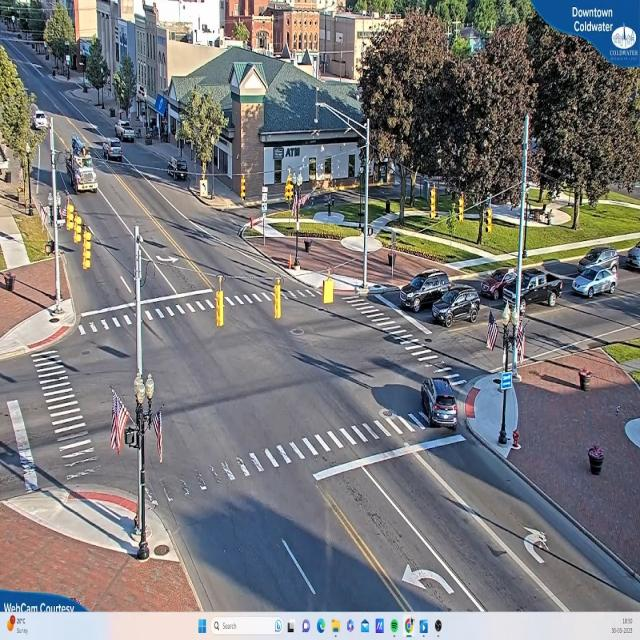car: (495, 270, 562, 308), (401, 272, 455, 314), (422, 376, 460, 428), (432, 290, 479, 328), (572, 268, 619, 298), (621, 248, 640, 270), (108, 139, 125, 161), (119, 125, 137, 143)
